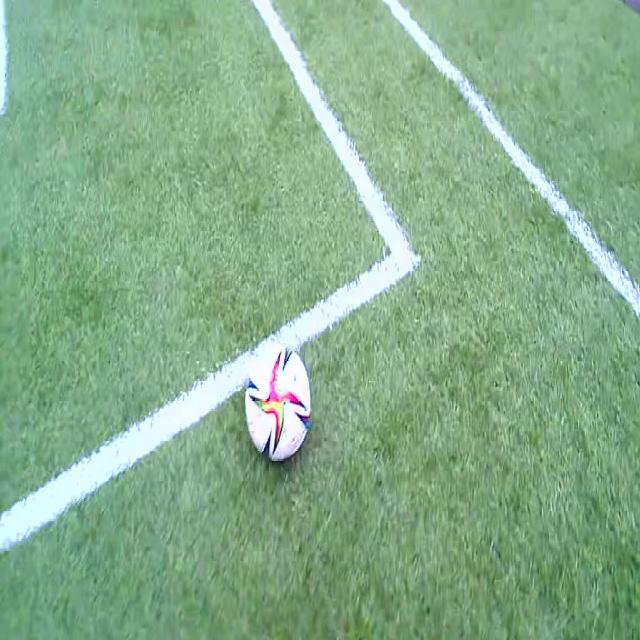ball: (244, 342, 312, 461)
